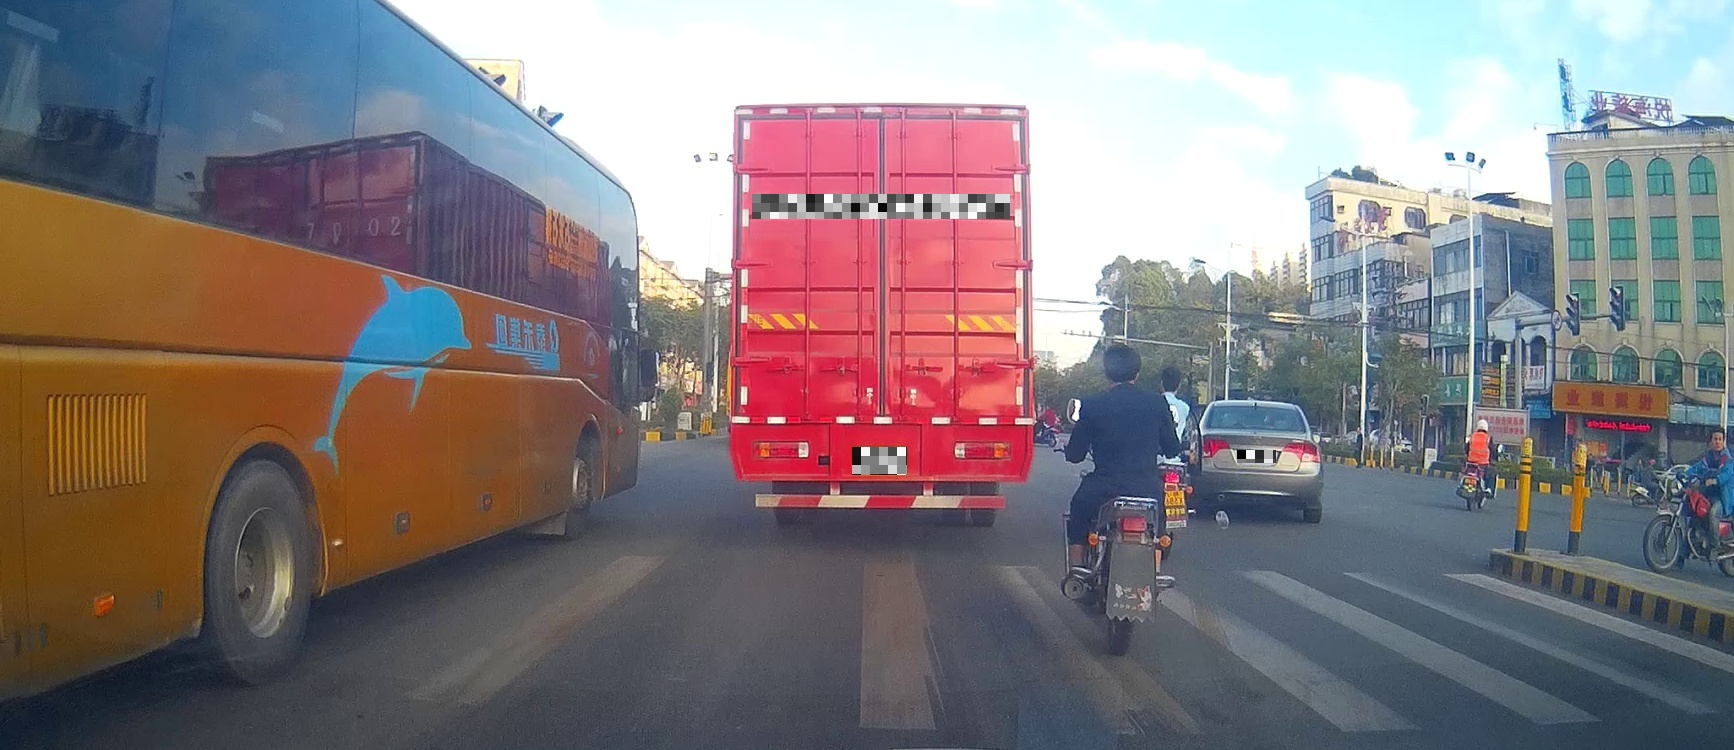L_light: (752, 442, 809, 458), (1193, 438, 1232, 458)
R_light: (955, 441, 1010, 460), (1282, 442, 1320, 463)
T_light: (858, 107, 902, 119), (1249, 403, 1263, 410)
day-no: (727, 102, 1034, 528)
day-right: (1185, 400, 1323, 524)
plate_1: (752, 194, 1010, 219)
plate_2: (852, 447, 907, 475)
plate_3: (1237, 450, 1276, 463)
